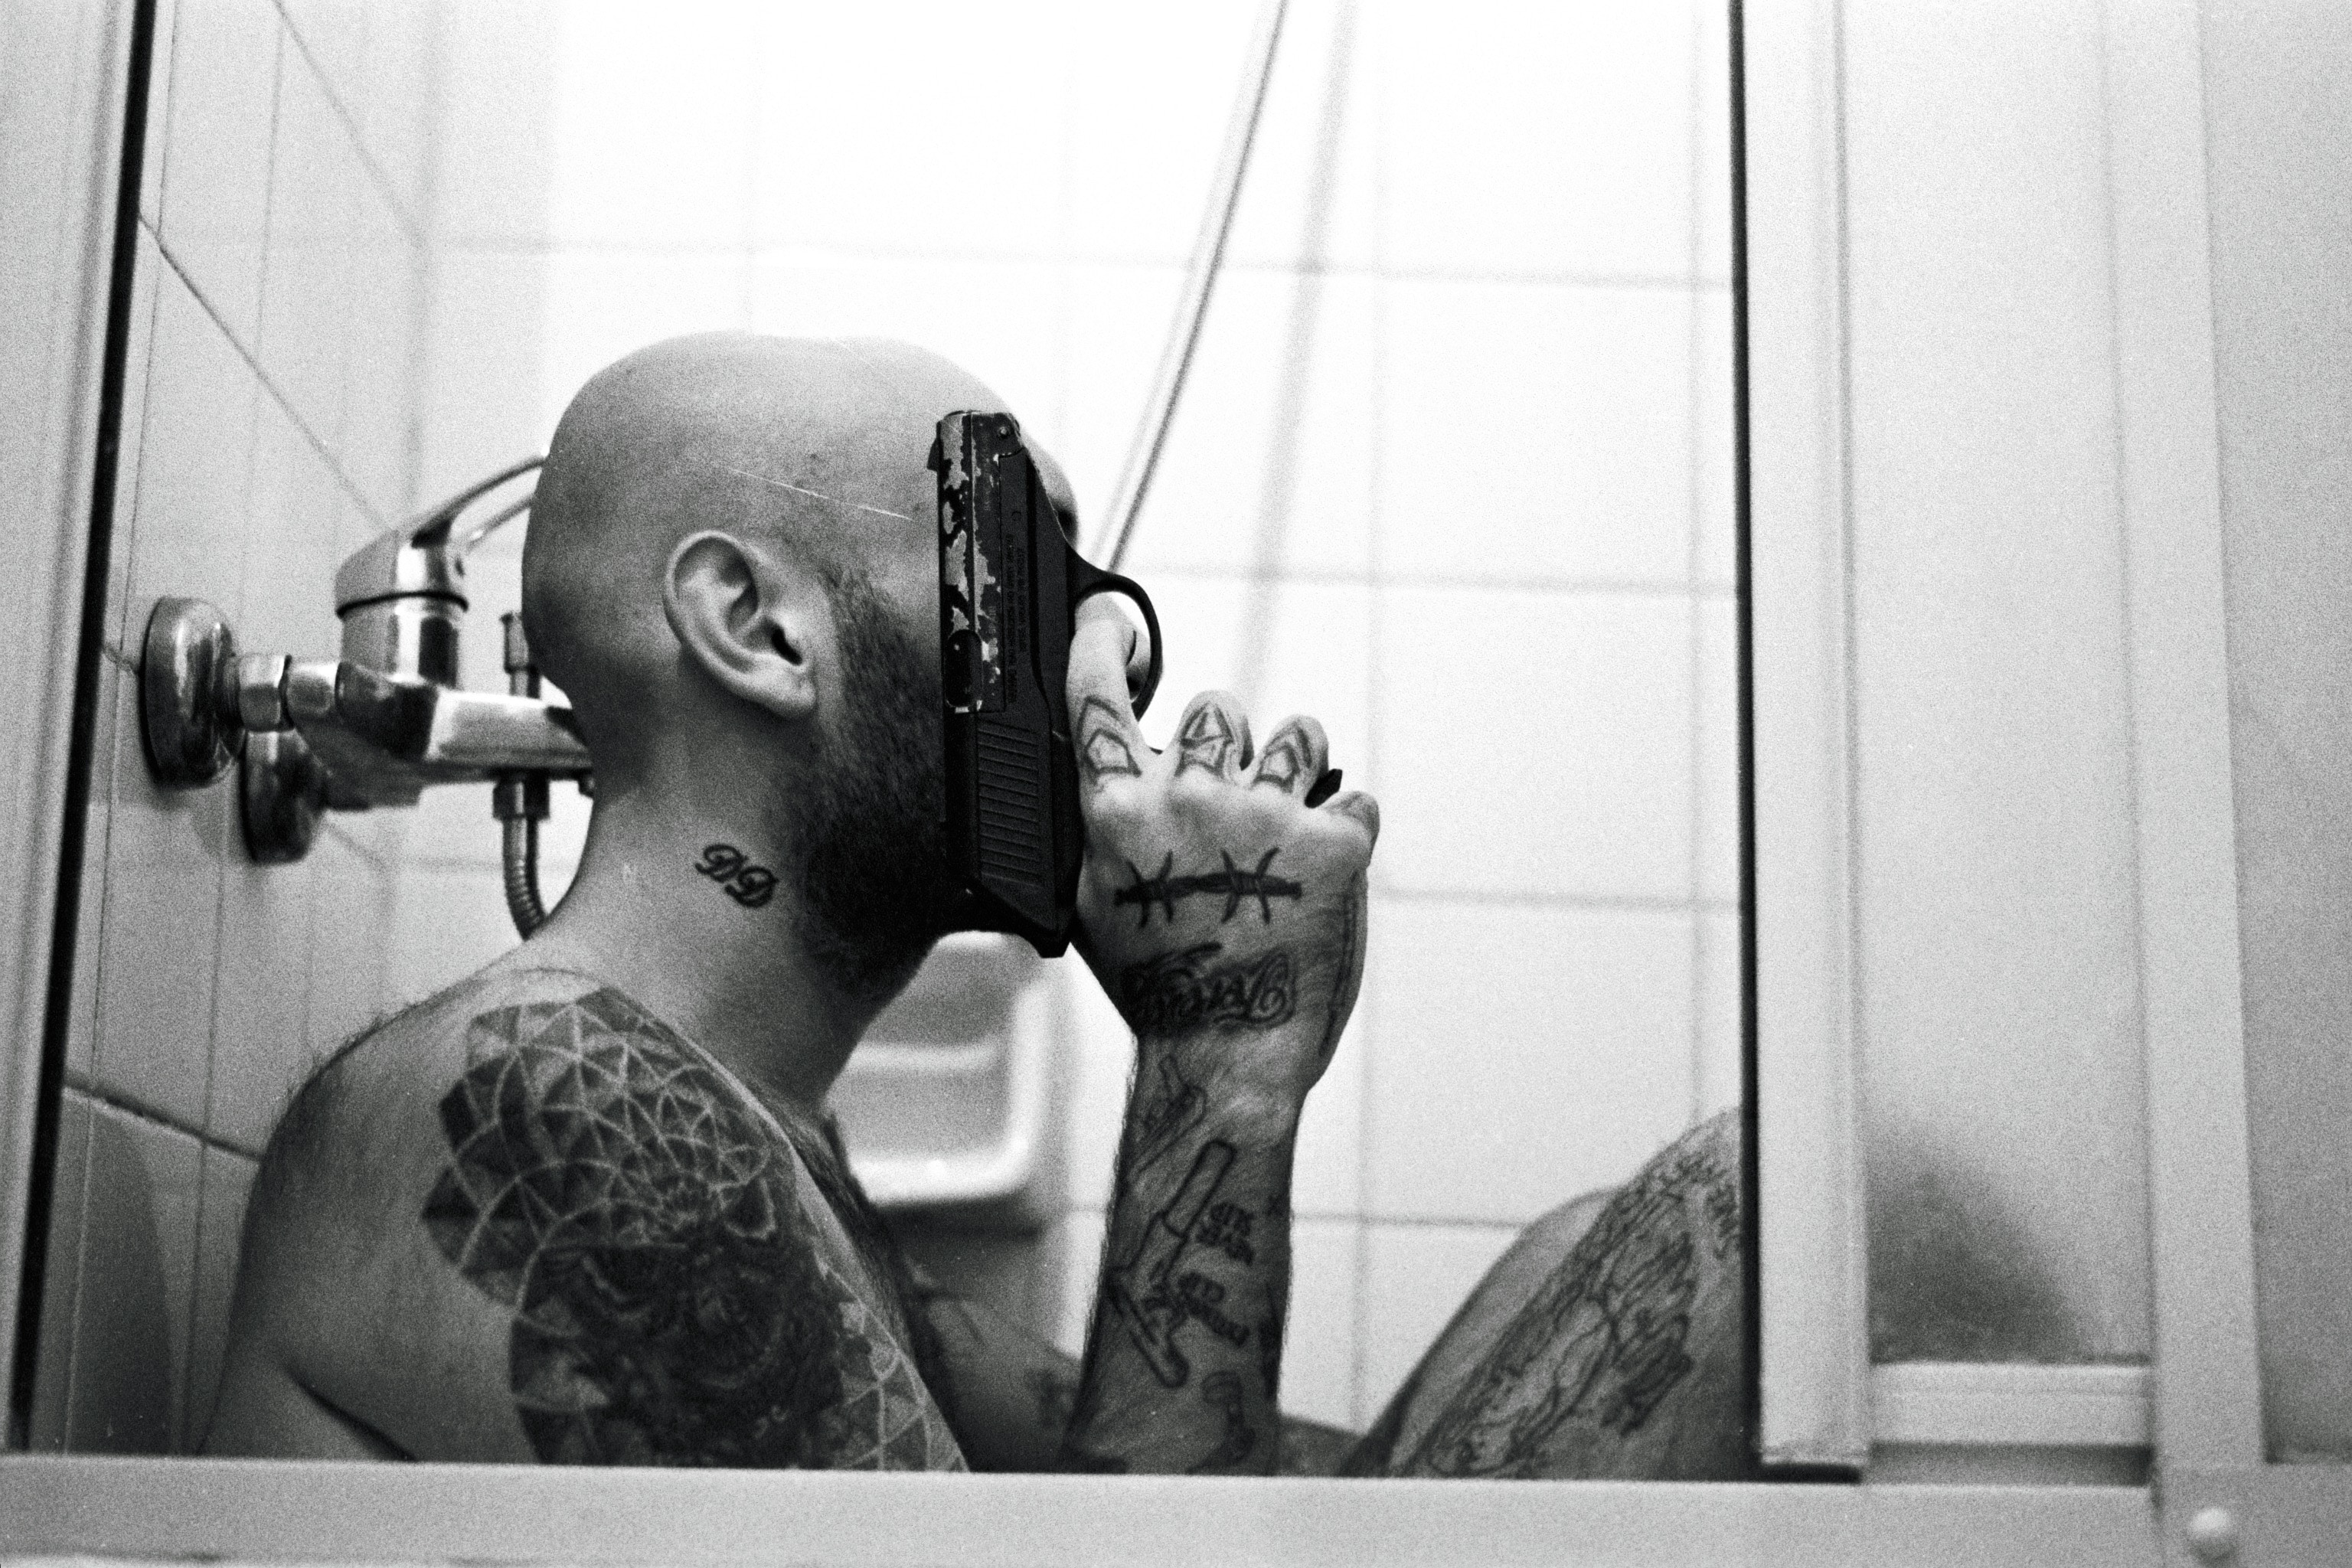gun: (914, 394, 1210, 975)
person: (196, 304, 1773, 1486)
